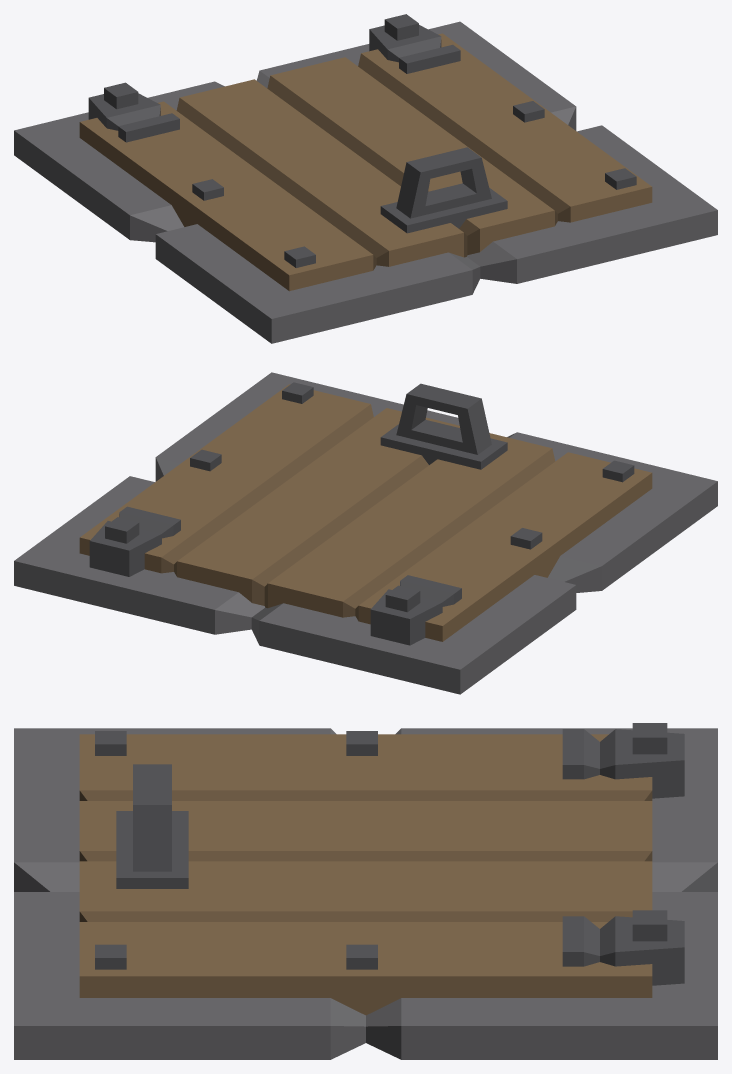
The model's file is SM_Prop_Trapdoor_01.gltf.
The picture shows the model from 3 angles, top to bottom: view 1: azimuth 30°, elevation 25°; view 2: azimuth 150°, elevation 25°; view 3: azimuth 270°, elevation 25°; orthographic projection. The views are drawn at different scales.
Parts seen in each view (by area): view 1: SM_Prop_Trapdoor_01; view 2: SM_Prop_Trapdoor_01; view 3: SM_Prop_Trapdoor_01.
Part boxes in pixels (x1,y1,x2,y2): SM_Prop_Trapdoor_01: (14,14,717,343); SM_Prop_Trapdoor_01: (14,372,717,694); SM_Prop_Trapdoor_01: (14,723,717,1059).
Bounding box in the file's own units: 1.14 × 0.2263 × 1.14.
1 material, 1 textured.
